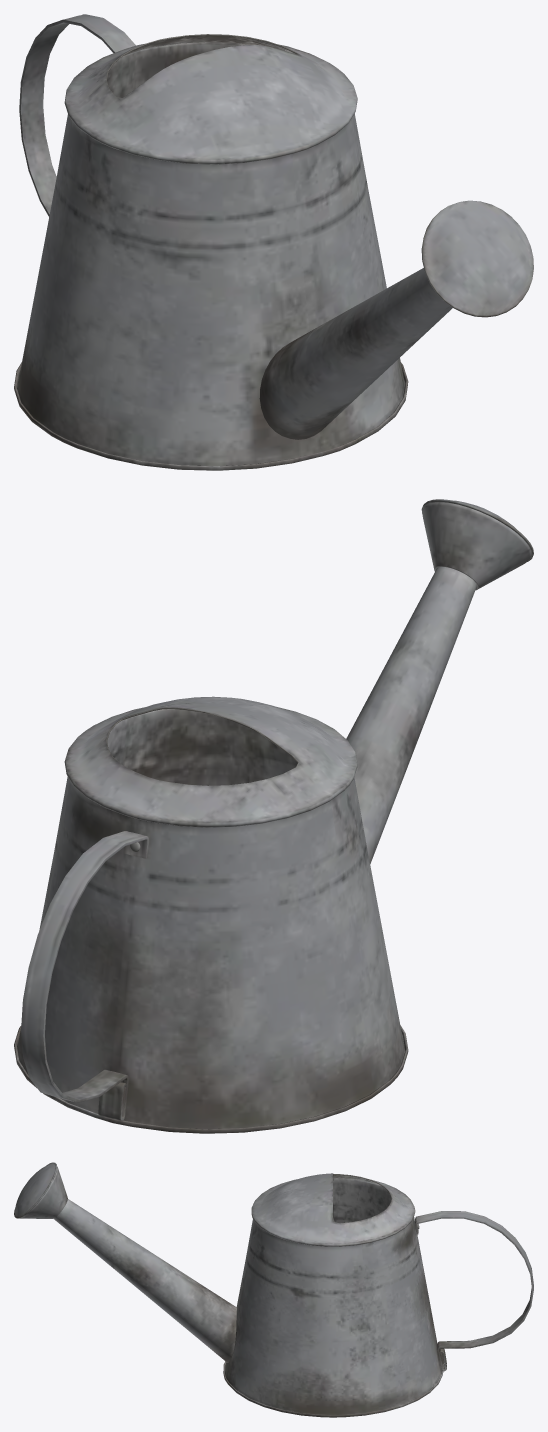
File: watering_can_metal_01.glb
3 renders of one model, top to bottom at view 1: azimuth 30°, elevation 25°; view 2: azimuth 150°, elevation 25°; view 3: azimuth 270°, elevation 25°, orthographic. The views are drawn at different scales.
Parts seen in each view (by area): view 1: watering_can_metal_01; view 2: watering_can_metal_01; view 3: watering_can_metal_01.
Part boxes in pixels (bbox=[...]): watering_can_metal_01: bbox=[14, 14, 533, 470]; watering_can_metal_01: bbox=[14, 499, 533, 1133]; watering_can_metal_01: bbox=[14, 1162, 533, 1417].
Size of the model in its own units: 0.191 by 0.1968 by 0.4523.
1 material, 1 textured.
